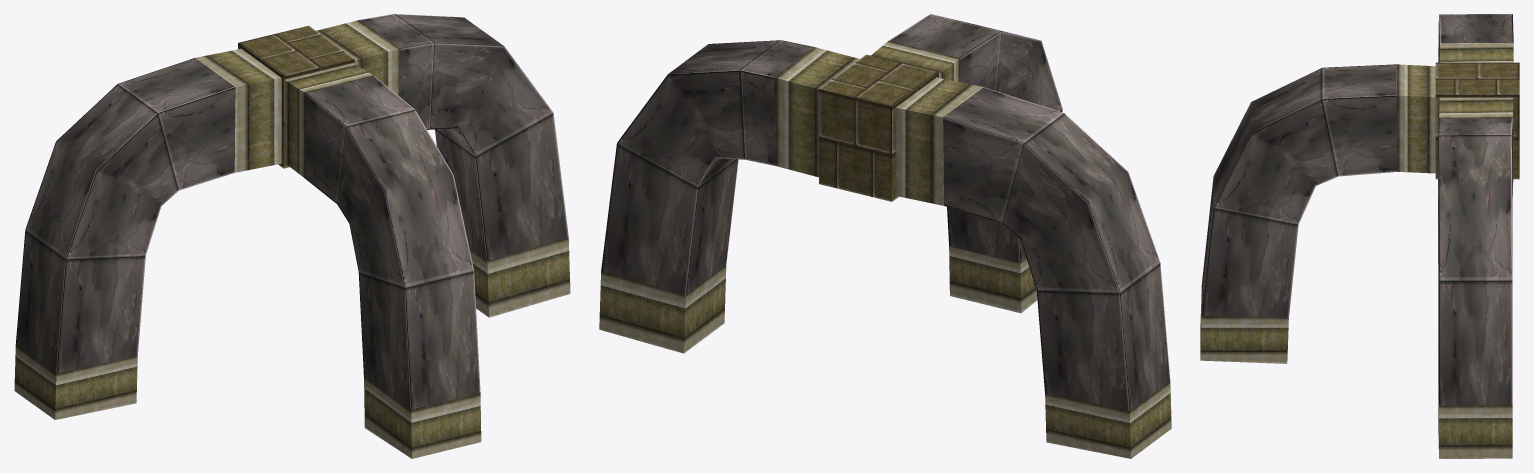
The model's file is INST_SM_BUTTRESSES.obj.
3 views of the same model, side by side, from view 1: azimuth 30°, elevation 25°; view 2: azimuth 150°, elevation 25°; view 3: azimuth 270°, elevation 25° (orthographic). The views are drawn at different scales.
Parts seen in each view (by area): view 1: Box03, Box01, Box02, Object01, Object04, Object02, Object03, Box04, Object06, Object05; view 2: Box03, Box02, Box04, Box01, Object03, Object04, Object02, Object05, Object01, Object06; view 3: Box01, Box02, Object06, Object01, Object03, Box04, Box03, Object05, Object04.
Boxes of the visible parts, x1=… form: Box03: x1=16, y1=58, x2=235, y2=373; Box01: x1=305, y1=76, x2=480, y2=409; Box02: x1=360, y1=14, x2=568, y2=260; Object01: x1=364, y1=378, x2=481, y2=458; Object04: x1=195, y1=48, x2=281, y2=172; Object02: x1=14, y1=344, x2=137, y2=419; Object03: x1=469, y1=237, x2=570, y2=317; Box04: x1=238, y1=25, x2=354, y2=168; Object06: x1=284, y1=63, x2=374, y2=178; Object05: x1=316, y1=20, x2=400, y2=95; Box03: x1=943, y1=87, x2=1170, y2=410; Box02: x1=601, y1=40, x2=814, y2=295; Box04: x1=819, y1=54, x2=938, y2=201; Box01: x1=889, y1=14, x2=1062, y2=263; Object03: x1=599, y1=265, x2=726, y2=353; Object04: x1=895, y1=77, x2=983, y2=205; Object02: x1=1045, y1=381, x2=1171, y2=458; Object05: x1=774, y1=47, x2=859, y2=177; Object01: x1=949, y1=246, x2=1037, y2=313; Object06: x1=871, y1=41, x2=959, y2=81; Box01: x1=1201, y1=64, x2=1397, y2=318; Box02: x1=1438, y1=118, x2=1512, y2=405; Object06: x1=1396, y1=64, x2=1435, y2=173; Object01: x1=1200, y1=294, x2=1288, y2=363; Object03: x1=1438, y1=381, x2=1512, y2=458; Box04: x1=1435, y1=62, x2=1519, y2=179; Box03: x1=1438, y1=14, x2=1513, y2=224; Object05: x1=1439, y1=97, x2=1513, y2=194; Object04: x1=1439, y1=43, x2=1513, y2=62.
Bounding box in the file's own units: 1107 × 600 × 643.
